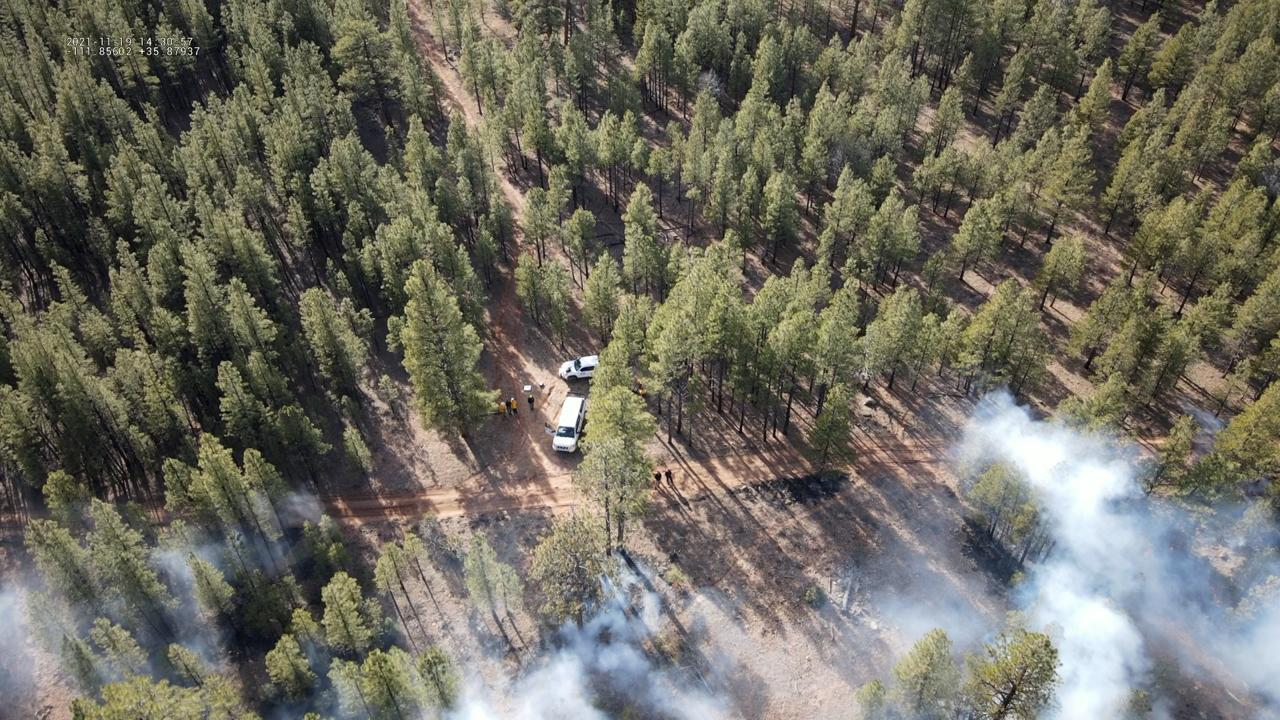smoke: (0, 483, 750, 720), (856, 385, 1280, 720)
